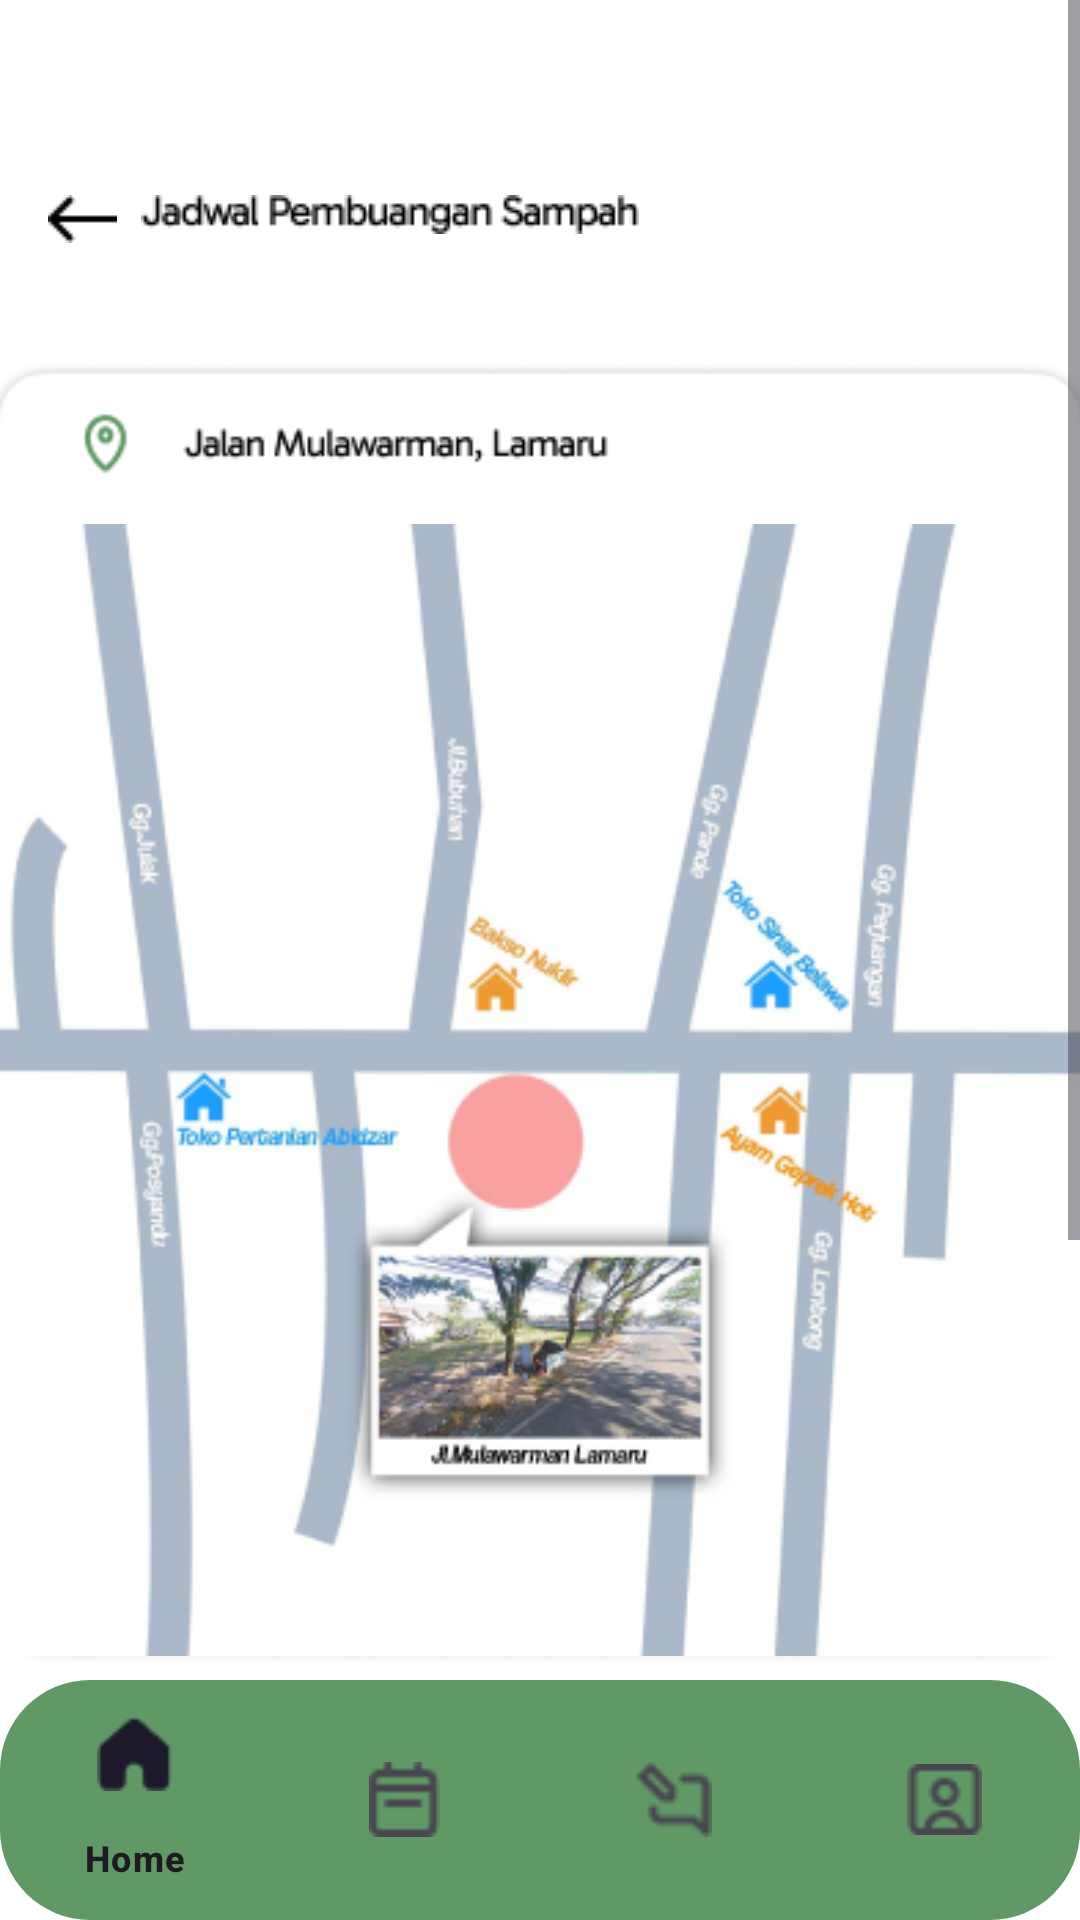

Where icons sit on this 1080 x 1920 app screen, as (x1, y1, x2, y2):
jadwal panah kembali: (48, 195, 117, 243)
